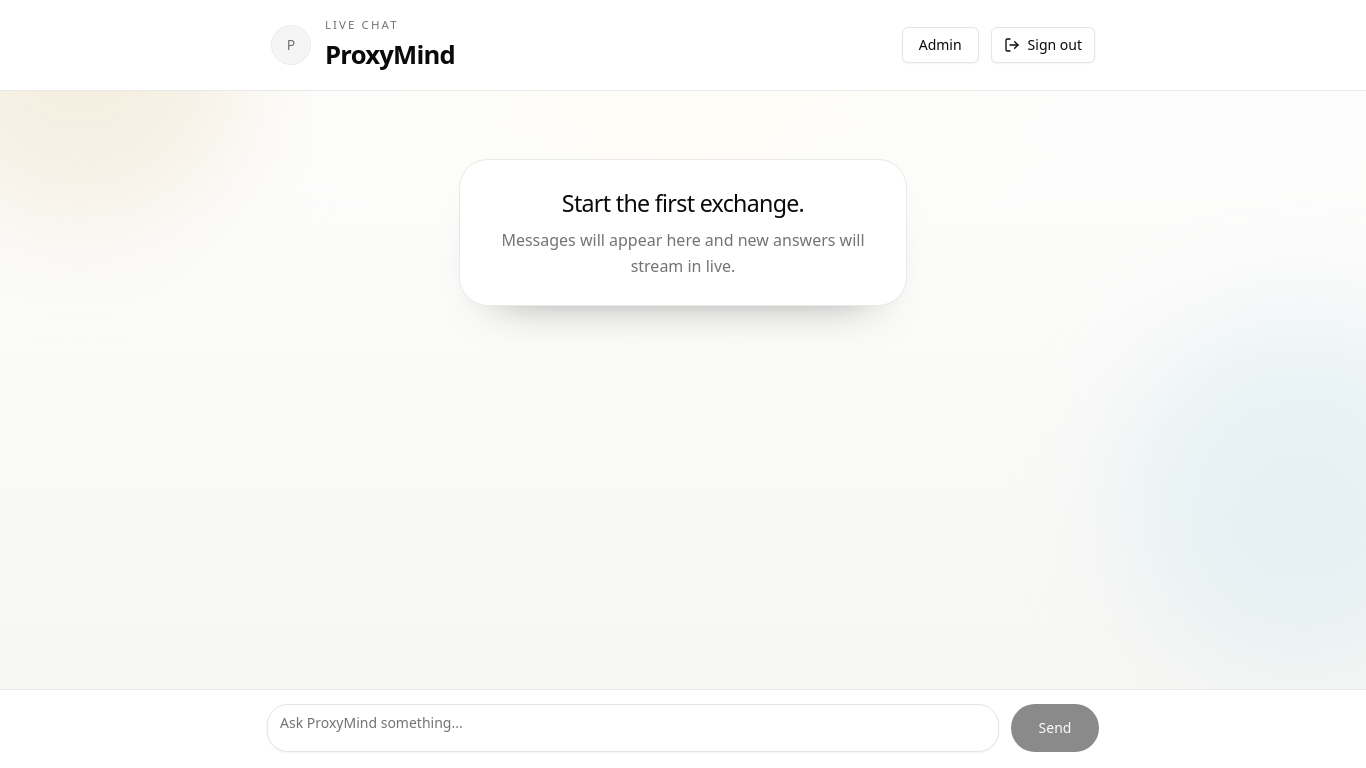
Test: ChatPage integration › shows the knowledge-not-ready error and retry button for HTTP 422
The width and height of the screenshot is (1366, 768).
Type "Try now" into the text box labelled "Ask ProxyMind something...". click: point(633, 728)
box: [267,704,999,752]
Then press Enter
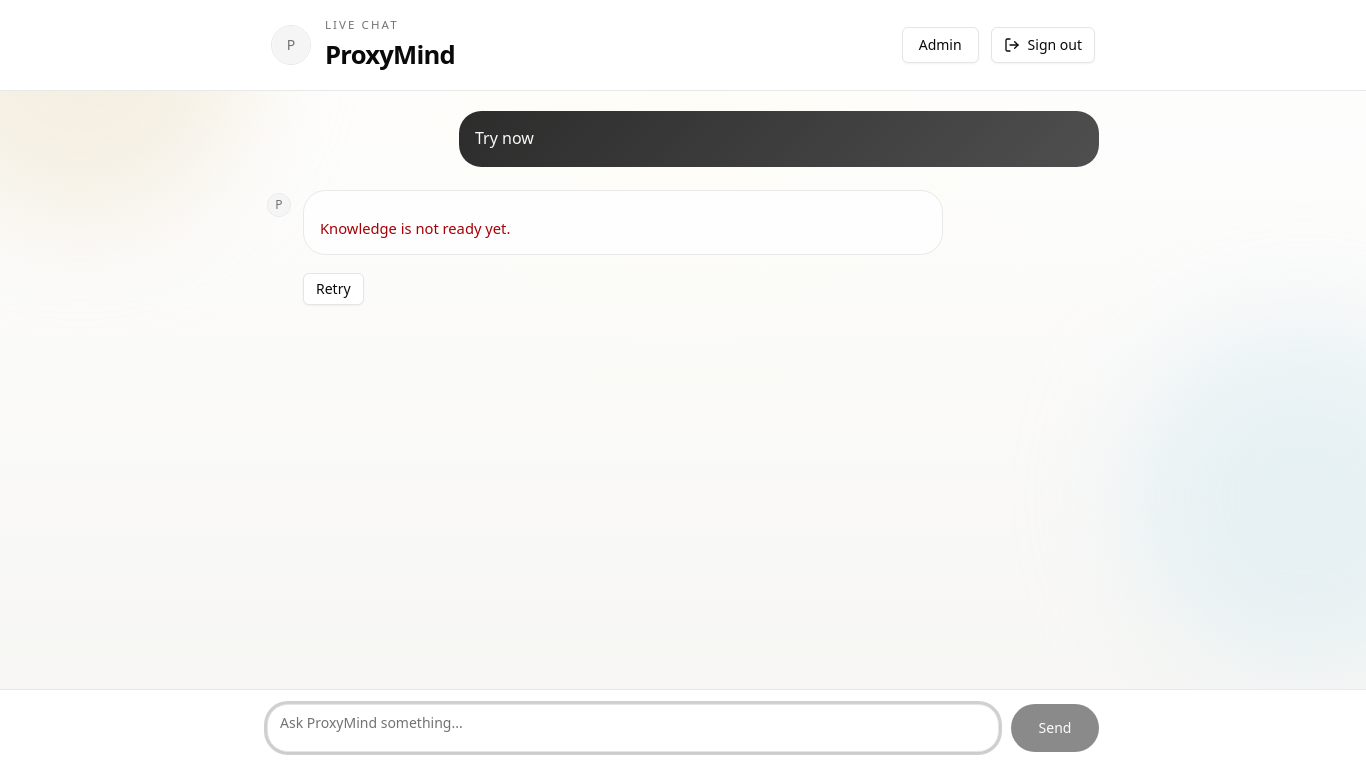
Now the text "Knowledge is not ready yet." is shown, box [320,218,510,238]
Now the button "Retry" is shown, box [303,273,364,305]
